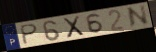2: (107, 9, 126, 33)
6: (42, 19, 62, 42), (85, 13, 105, 34)
N: (126, 4, 151, 30)
P: (20, 23, 40, 46)
X: (61, 14, 85, 39)
